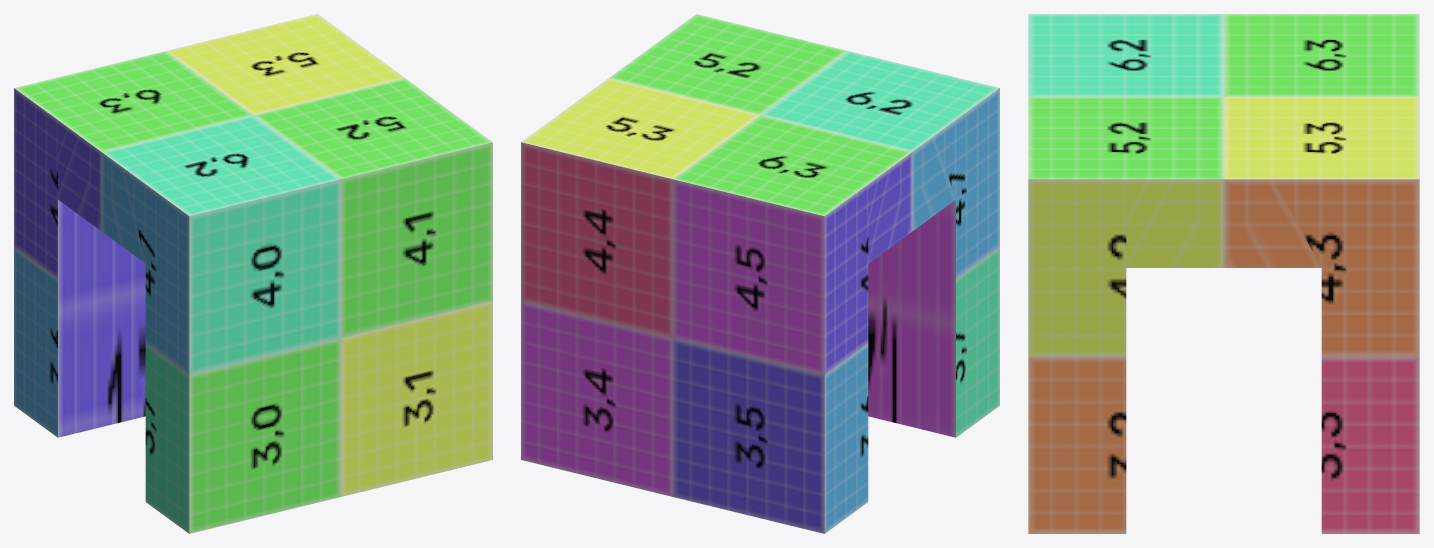
File: stageCube1.obj
3 views of the same model, side by side, from view 1: azimuth 30°, elevation 25°; view 2: azimuth 150°, elevation 25°; view 3: azimuth 270°, elevation 25° (orthographic). The views are drawn at different scales.
Parts seen in each view (by area): view 1: 立方体; view 2: 立方体; view 3: 立方体.
Boxes of the visible parts, box(x1,y1,x2,y2) form: 立方体: box(14, 14, 492, 533); 立方体: box(521, 14, 999, 533); 立方体: box(1028, 14, 1419, 533).
Bounding box in the file's own units: 2 × 2 × 2.
1 material, 1 textured.
